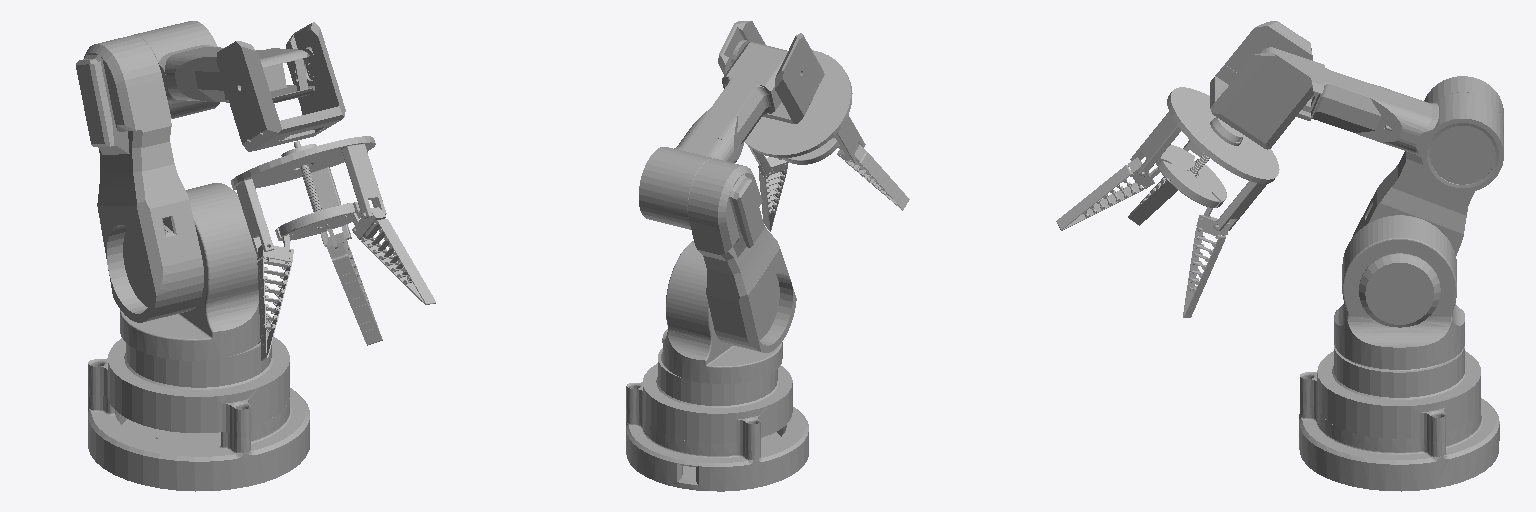
The robot description file, URDF, robot "assembly_1_robot_arm":
<?xml version="1.0" encoding="utf-8"?>
<!-- This URDF was automatically created by SolidWorks to URDF Exporter! Originally created by [author] ([email redacted]) 
     Commit Version: 1.6.0-4-g7f85cfe  Build Version: 1.6.7995.38578
     For more information, please see http://wiki.ros.org/sw_urdf_exporter -->
<robot name="assembly_1_robot_arm">

  <!-- Define the world link -->
  <link name="world" />

  <!-- Fix the world_joint with a rotation so the robot stands vertically -->
  <joint name="world_joint" type="fixed">
    <parent link="world" />
    <child link="base_link" />
    <!-- Rotate -90 degrees about the x-axis to bring the robot upright -->
    <origin xyz="0 0 0" rpy="-1.5708 0 0" />
  </joint>

  <!-- Define the base_link -->
  <link name="base_link">
    <inertial>
      <origin xyz="0 0 0" rpy="0 0 0" /> <!-- Ensure proper alignment -->
      <mass value="2.7365" />
      <inertia
        ixx="0.0096111"
        ixy="1.6572E-05"
        ixz="7.7688E-06"
        iyy="0.00967"
        iyz="8.6525E-06"
        izz="0.017601" />
    </inertial>
    <visual>
      <origin xyz="0 0 0" rpy="0 0 0" />
      <geometry>
        <mesh filename="package://assembly_1_robot_arm/meshes/base_link.STL" />
      </geometry>
      <material name="default_material">
        <color rgba="0.69804 0.69804 0.69804 1" />
      </material>
    </visual>
    <collision>
      <origin xyz="0 0 0" rpy="0 0 0" />
      <geometry>
        <mesh filename="package://assembly_1_robot_arm/meshes/base_link.STL" />
      </geometry>
    </collision>
  </link>
  <link
    name="Link_1">
    <inertial>
      <origin
        xyz="0 0 0"
        rpy="0 0 0" />
      <mass
        value="1.2191" />
      <inertia
        ixx="0.0043126"
        ixy="4.5974E-06"
        ixz="-0.00023974"
        iyy="0.003562"
        iyz="2.0993E-05"
        izz="0.0028666" />
    </inertial>
    <visual>
      <origin
        xyz="0 0 0"
        rpy="0 0 0" />
      <geometry>
        <mesh
          filename="package://assembly_1_robot_arm/meshes/Link_1.STL" />
      </geometry>
      <material
        name="default_material">
        <color
          rgba="0.69804 0.69804 0.69804 1" />
      </material>
    </visual>
    <collision>
      <origin
        xyz="0 0 0"
        rpy="0 0 0" />
      <geometry>
        <mesh
          filename="package://assembly_1_robot_arm/meshes/Link_1.STL" />
      </geometry>
    </collision>
  </link>
  
  <joint name="joint_0" type="continuous">
    <origin xyz="-0.026893 -0.12854 0.11411" rpy="1.5708 0 0" />
    <parent link="base_link" />
    <child link="Link_1" />
    <!-- Changed axis to rotate about z -->
    <axis xyz="0 0 1" />
    <!-- <limit lower="0" upper="3.142" effort="200" velocity="3" /> --> 
  </joint>

  <link
    name="Link_2">
    <inertial>
      <origin
        xyz="-0.02624 0.0015056 0.082459"
        rpy="0 0 0" />
      <mass
        value="1.3027" />
      <inertia
        ixx="0.0090251"
        ixy="-5.588E-07"
        ixz="-0.00012513"
        iyy="0.0078976"
        iyz="-9.0232E-05"
        izz="0.0013359" />
    </inertial>
    <visual>
      <origin
        xyz="0 0 0"
        rpy="0 0 0" />
      <geometry>
        <mesh
          filename="package://assembly_1_robot_arm/meshes/Link_2.STL" />
      </geometry>
      <material
        name="">
        <color
          rgba="0.69804 0.69804 0.69804 1" />
      </material>
    </visual>
    <collision>
      <origin
        xyz="0 0 0"
        rpy="0 0 0" />
      <geometry>
        <mesh
          filename="package://assembly_1_robot_arm/meshes/Link_2.STL" />
      </geometry>
    </collision>
  </link>
  <joint
    name="joint_1"
    type="revolute">
    <origin
      xyz="-0.022709 0.00024644 0.09244"
      rpy="-0.39421 0 0" />
    <parent
      link="Link_1" />
    <child
      link="Link_2" />
    <axis
      xyz="1 0 0" />
    <limit
      lower="-1.5708"
      upper="1.5708"
      effort="0"
      velocity="0" />
  </joint>
  <link
    name="Link_3">
    <inertial>
      <origin
        xyz="0.033863 4.2816E-05 0.089855"
        rpy="0 0 0" />
      <mass
        value="0.70894" />
      <inertia
        ixx="0.001753"
        ixy="6.3182E-10"
        ixz="1.4554E-05"
        iyy="0.0017701"
        iyz="-7.7224E-08"
        izz="0.00063083" />
    </inertial>
    <visual>
      <origin
        xyz="0 0 0"
        rpy="0 0 0" />
      <geometry>
        <mesh
          filename="package://assembly_1_robot_arm/meshes/Link_3.STL" />
      </geometry>
      <material
        name="">
        <color
          rgba="0.69804 0.69804 0.69804 1" />
      </material>
    </visual>
    <collision>
      <origin
        xyz="0 0 0"
        rpy="0 0 0" />
      <geometry>
        <mesh
          filename="package://assembly_1_robot_arm/meshes/Link_3.STL" />
      </geometry>
    </collision>
  </link>
  <joint
    name="joint_2"
    type="revolute">
    <origin
      xyz="0 0 0.1905"
      rpy="1.6076 0 0" />
    <parent
      link="Link_2" />
    <child
      link="Link_3" />
    <axis
      xyz="1 0 0" />
    <limit
      lower="-1.5708"
      upper="1.5708"
      effort="0"
      velocity="0" />
  </joint>
  <link
    name="Link_4">
    <inertial>
      <origin
        xyz="0.035116 -6.6465E-05 0.023951"
        rpy="0 0 0" />
      <mass
        value="0.27856" />
      <inertia
        ixx="0.00041241"
        ixy="-3.8612E-07"
        ixz="8.4531E-05"
        iyy="0.00037688"
        iyz="8.1316E-07"
        izz="0.00028048" />
    </inertial>
    <visual>
      <origin
        xyz="0 0 0"
        rpy="0 0 0" />
      <geometry>
        <mesh
          filename="package://assembly_1_robot_arm/meshes/Link_4.STL" />
      </geometry>
      <material
        name="">
        <color
          rgba="0.69804 0.69804 0.69804 1" />
      </material>
    </visual>
    <collision>
      <origin
        xyz="0 0 0"
        rpy="0 0 0" />
      <geometry>
        <mesh
          filename="package://assembly_1_robot_arm/meshes/Link_4.STL" />
      </geometry>
    </collision>
  </link>
  <joint
    name="joint_3"
    type="revolute">
    <origin
      xyz="0 6.4807E-05 0.23765"
      rpy="1.2979 0 0" />
    <parent
      link="Link_3" />
    <child
      link="Link_4" />
    <axis
      xyz="1 0 0" />
    <limit
      lower="-1.5708"
      upper="1.5708"
      effort="0"
      velocity="0" />
  </joint>
  <link
    name="END_effector">
    <inertial>
      <origin
        xyz="-0.027674 0.02006 0.131"
        rpy="0 0 0" />
      <mass
        value="0.33418" />
      <inertia
        ixx="0.00049754"
        ixy="-4.4415E-08"
        ixz="-1.0522E-08"
        iyy="0.00049756"
        iyz="4.0791E-09"
        izz="0.00080615" />
    </inertial>
    <visual>
      <origin
        xyz="0 0 0"
        rpy="0 0 0" />
      <geometry>
        <mesh
          filename="package://assembly_1_robot_arm/meshes/END_effector.STL" />
      </geometry>
      <material
        name="">
        <color
          rgba="0.75294 0.75294 0.75294 1" />
      </material>
    </visual>
    <collision>
      <origin
        xyz="0 0 0"
        rpy="0 0 0" />
      <geometry>
        <mesh
          filename="package://assembly_1_robot_arm/meshes/END_effector.STL" />
      </geometry>
    </collision>
  </link>
  <joint
    name="END_effector_joint"
    type="continuous">
    <origin
      xyz="0 0 0"
      rpy="0.0027785 -0.0019869 -2.5208" />
    <parent
      link="Link_4" />
    <child
      link="END_effector" />
    <axis
      xyz="0.81342 -0.58168 0" />
    <limit
      lower="-1.5708"
      upper="1.5708"
      effort="0"
      velocity="0" />
  </joint>
</robot>

--- Facts derived from the render (not from the file) ---
Views: 3 orthographic renders of the robot side by side, from view 1: azimuth 30°, elevation 25°; view 2: azimuth 150°, elevation 25°; view 3: azimuth 270°, elevation 25°.
Model assembly_1_robot_arm with 7 links and 6 joints (3 revolute, 2 continuous, 1 fixed), rooted at world, posed all joints at 0.
Visible links, largest first — view 1: base_link, Link_2, END_effector, Link_1, Link_4, Link_3; view 2: base_link, Link_2, Link_3, END_effector, Link_1, Link_4; view 3: base_link, Link_1, END_effector, Link_3, Link_4, Link_2.
Link boxes in pixels (bbox=[...]): base_link: bbox=[88, 320, 309, 491]; Link_2: bbox=[76, 35, 203, 322]; END_effector: bbox=[231, 136, 435, 360]; Link_1: bbox=[120, 183, 260, 360]; Link_4: bbox=[216, 22, 345, 151]; Link_3: bbox=[134, 21, 314, 118]; base_link: bbox=[626, 348, 808, 491]; Link_2: bbox=[688, 159, 796, 352]; Link_3: bbox=[639, 42, 787, 229]; END_effector: bbox=[745, 50, 909, 231]; Link_1: bbox=[662, 241, 782, 383]; Link_4: bbox=[718, 21, 824, 123]; base_link: bbox=[1299, 345, 1499, 491]; Link_1: bbox=[1334, 215, 1464, 369]; END_effector: bbox=[1056, 87, 1279, 317]; Link_3: bbox=[1262, 47, 1503, 192]; Link_4: bbox=[1210, 21, 1313, 149]; Link_2: bbox=[1352, 76, 1503, 255].
Bounding box of the posed robot: 0.2324 × 0.5192 × 0.5308 m (x, y, z).
6 mesh visuals loaded from 6 distinct referenced files (6 binary STL).
